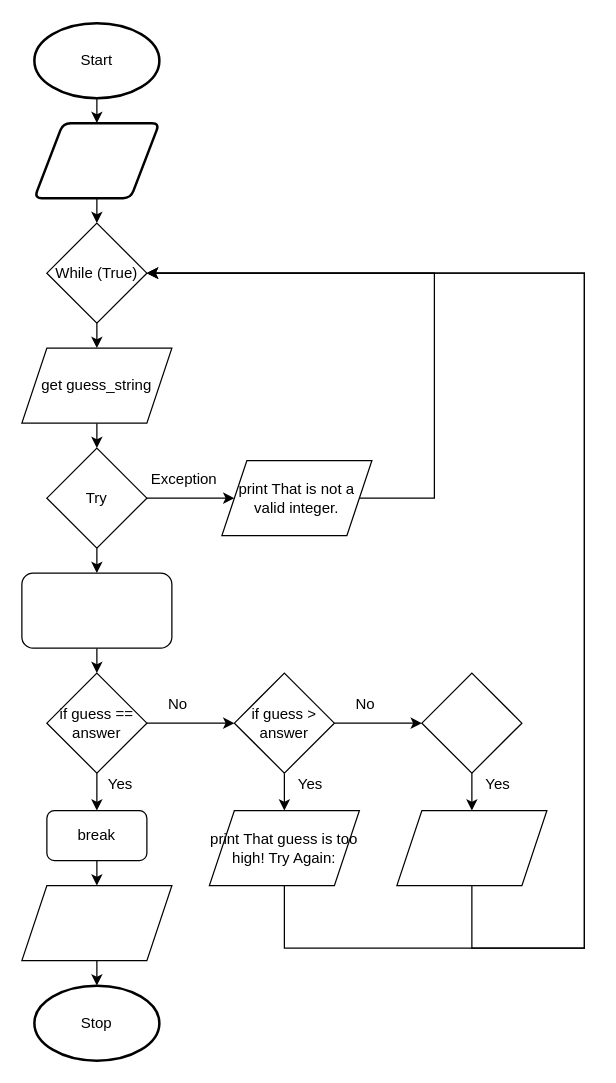
This 616x1083 diagram has some shape labels left out. The centre of each missing label's shape, as x and y in pixels:
convert guess_string to int: [96,610]
generate answer: [96,160]
if guess < answer: [471,722]
print That guess is too low! Try Again:: [471,847]
print You guessed correctly!: [96,922]
